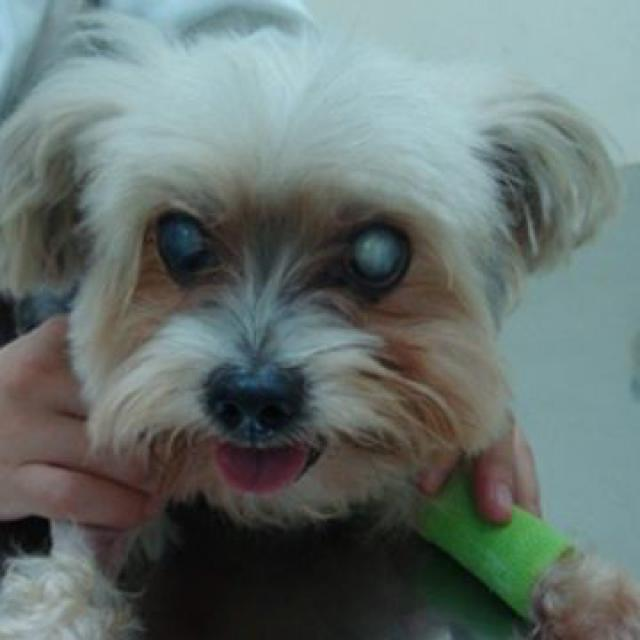eye: (342, 215, 414, 296), (150, 206, 220, 286)
